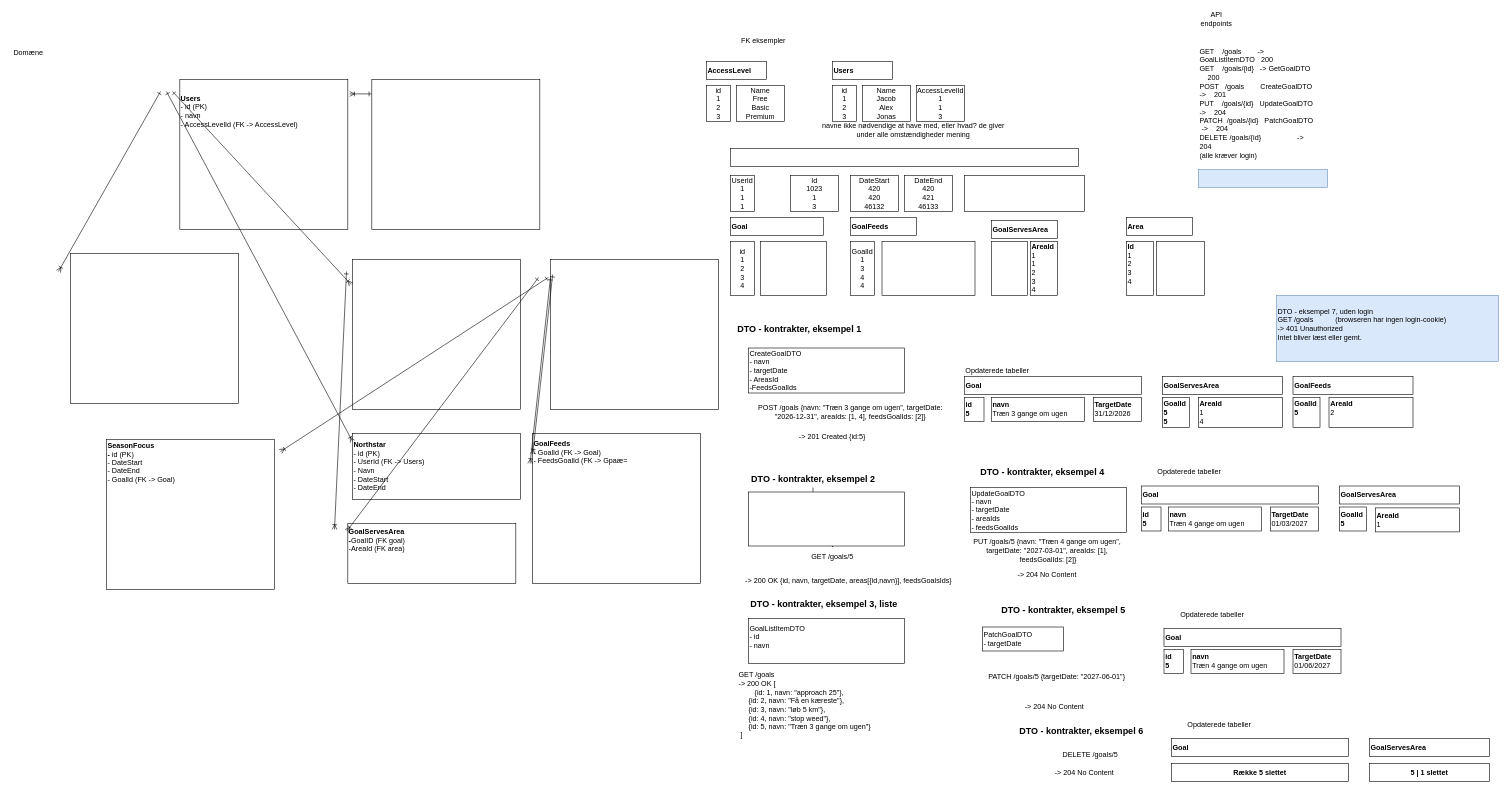
The diagram is 1509 pixels wide and 792 high, and some of its shapes have lost their labels. The box of each missing label's shape, as (x1, y1, x2, y2) in pixels:
AccessLevel - id (PK) - Name: (371, 79, 540, 230)
Area (livsområde, helbred, dating) - id (PK) - UserId (FK -> Users) - Navn: (352, 259, 520, 410)
FeedsGoalId 2 2 2 3: (881, 241, 975, 296)
GET /prices (offentligt): (1198, 169, 1328, 188)
GetGoalDTO - id - navn - targetDate - areas - feedsGoalIds: (748, 491, 904, 546)
Goal - id (PK) - Navn - TargetDate: (550, 259, 718, 410)
GoalID 3 4 4 4 4: (991, 241, 1028, 296)
Navn approach 25 Få en kæreste løb 5 km stop weed: (760, 241, 826, 296)
Navn Helbred Bussiness Dating Glæde: (1156, 241, 1204, 296)
Navn Smoke Lidt Mere Smoke Overraskende nok, Smoke: (964, 175, 1084, 212)
TimeEntry: (730, 148, 1078, 166)
TimeEntry - id (PK) - UserId (FK -> Users) - DateStart - DateEnd - Navn: (70, 253, 238, 404)
